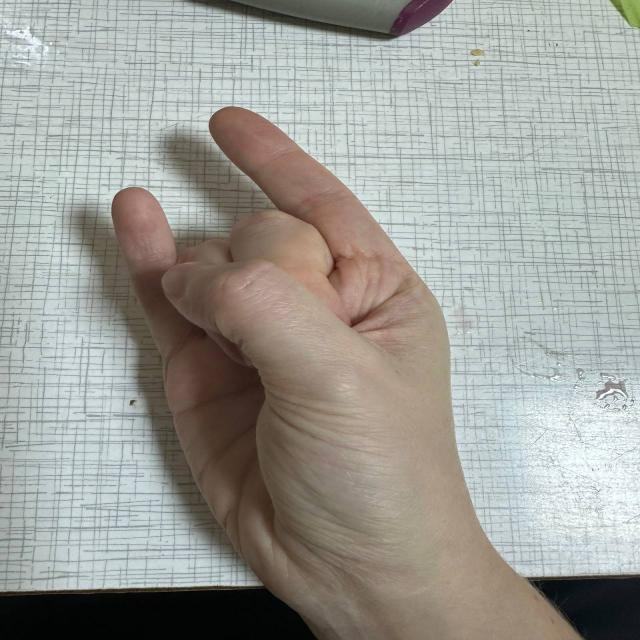y: (98, 96, 511, 522)
